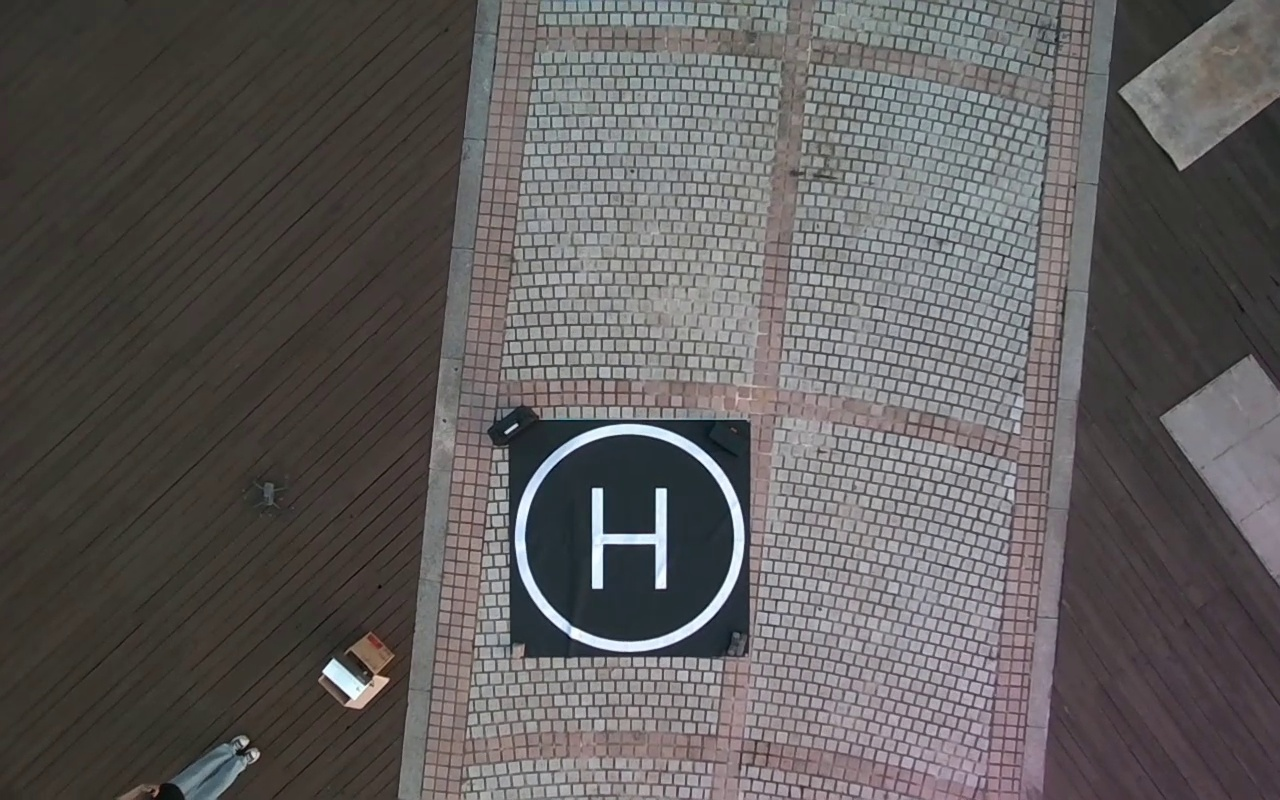H: (591, 487, 668, 589)
heliport: (514, 422, 746, 653)
